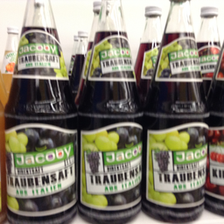juice: (4, 1, 79, 224), (142, 1, 211, 223), (79, 1, 144, 223)
